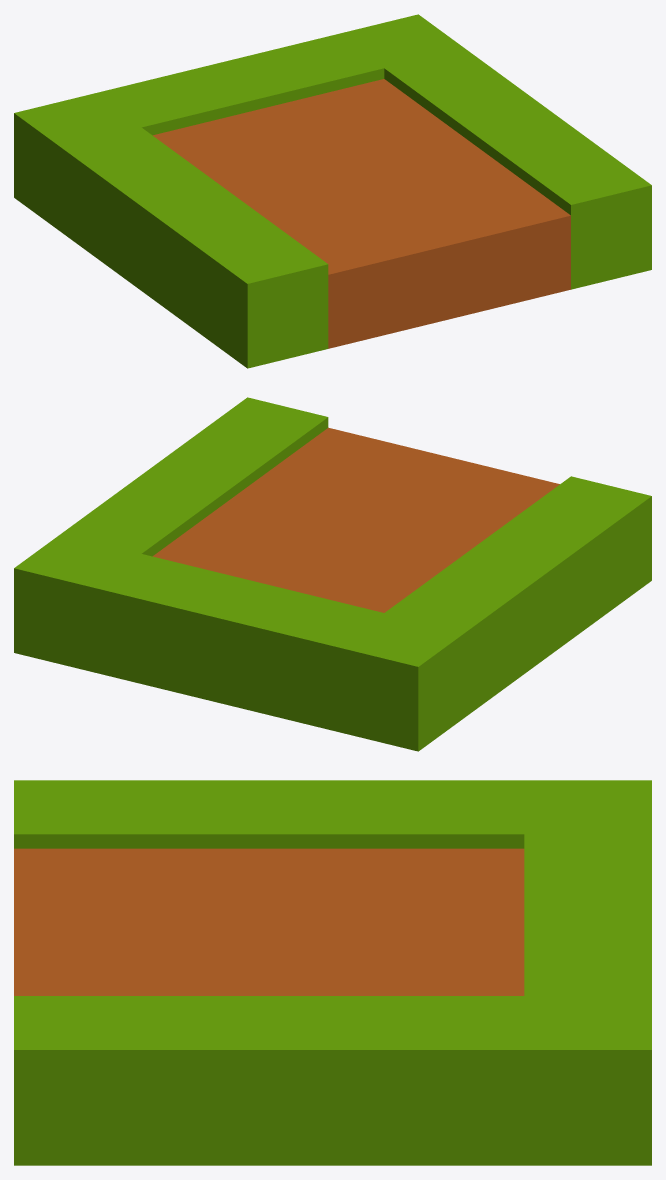
The model's file is TileGround_20.fbx.
The picture shows the model from 3 angles, top to bottom: view 1: azimuth 30°, elevation 25°; view 2: azimuth 150°, elevation 25°; view 3: azimuth 270°, elevation 25°; orthographic projection. The views are drawn at different scales.
Visible parts, largest first — view 1: TileGround_20; view 2: TileGround_20; view 3: TileGround_20.
Boxes of the visible parts, bbox=[...] form: TileGround_20: bbox=[14, 14, 651, 368]; TileGround_20: bbox=[14, 397, 651, 751]; TileGround_20: bbox=[14, 780, 651, 1165].
Bounding box in the file's own units: 500 × 100 × 500.
